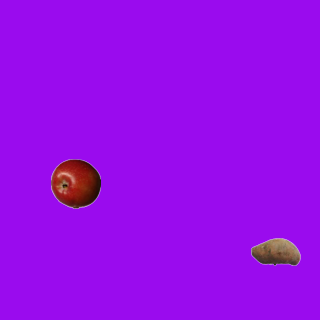Apple Braeburn: (50, 158, 100, 208)
Potato Sweet: (250, 226, 300, 276)
